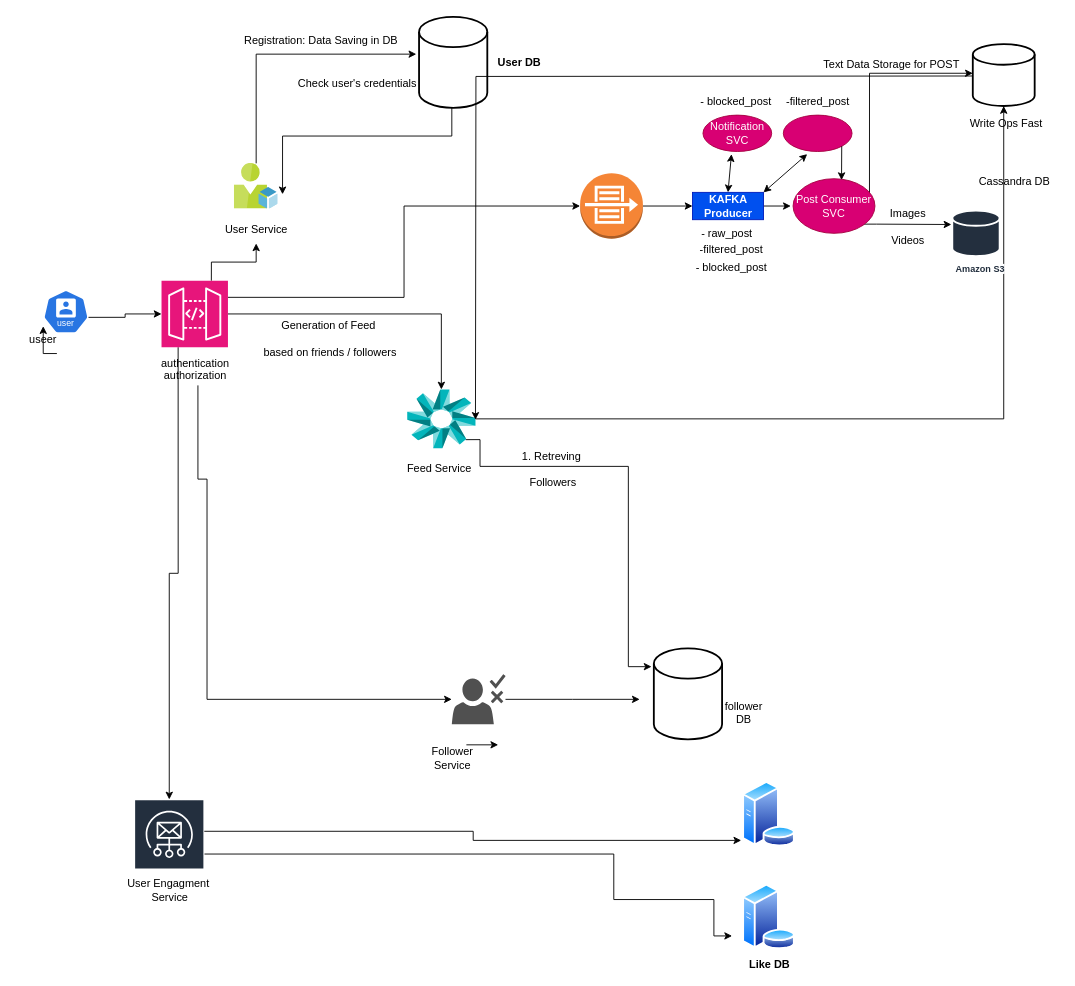
Some shapes in this 1075 by 986 pixel diagram are drawn without their labels. The centre of each missing label's shape, as x and y in pixels:
Comment DB: the point at 768,813
Moderator SVC: the point at 817,133
